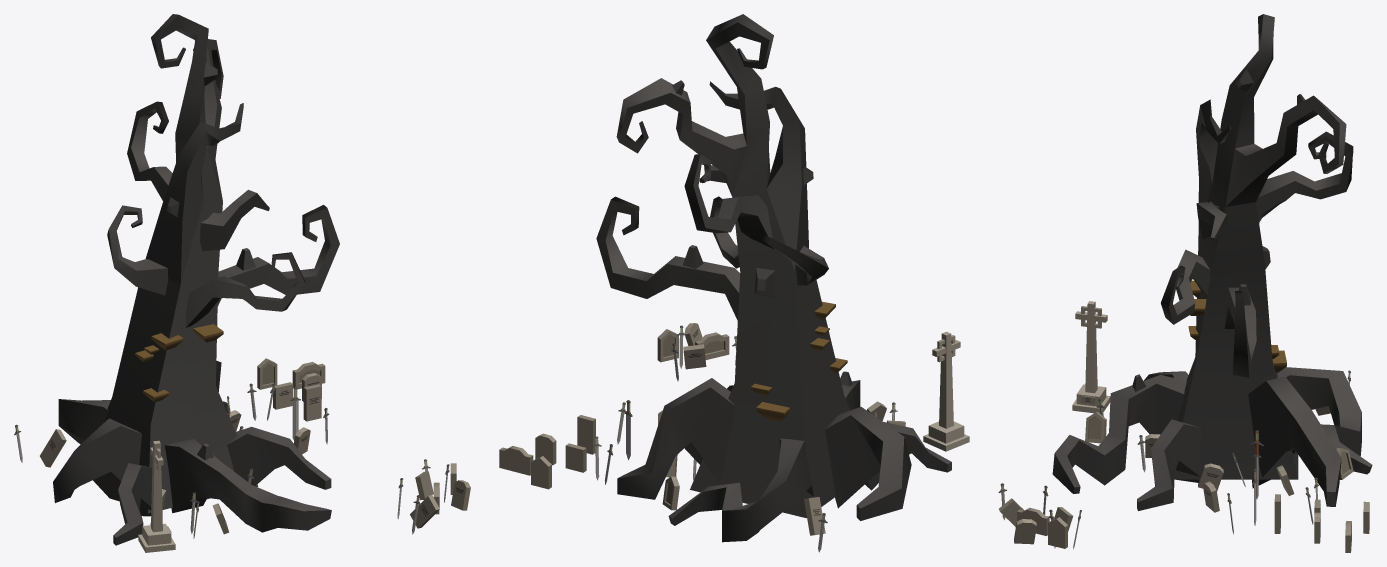
The model's file is SF_Env_Undead_Preset_07.fbx.
The picture shows the model from 3 angles, left to right: view 1: azimuth 30°, elevation 25°; view 2: azimuth 150°, elevation 25°; view 3: azimuth 270°, elevation 25°; orthographic projection. The views are drawn at different scales.
Visible parts, largest first — view 1: SF_Env_Undead_Preset_07; view 2: SF_Env_Undead_Preset_07; view 3: SF_Env_Undead_Preset_07.
Part boxes in pixels (box(x1,y1,x2,y2)): SF_Env_Undead_Preset_07: box(14, 14, 470, 552); SF_Env_Undead_Preset_07: box(499, 14, 969, 552); SF_Env_Undead_Preset_07: box(998, 14, 1372, 552).
Size of the model in its own units: 19.06 by 25.65 by 18.85.
